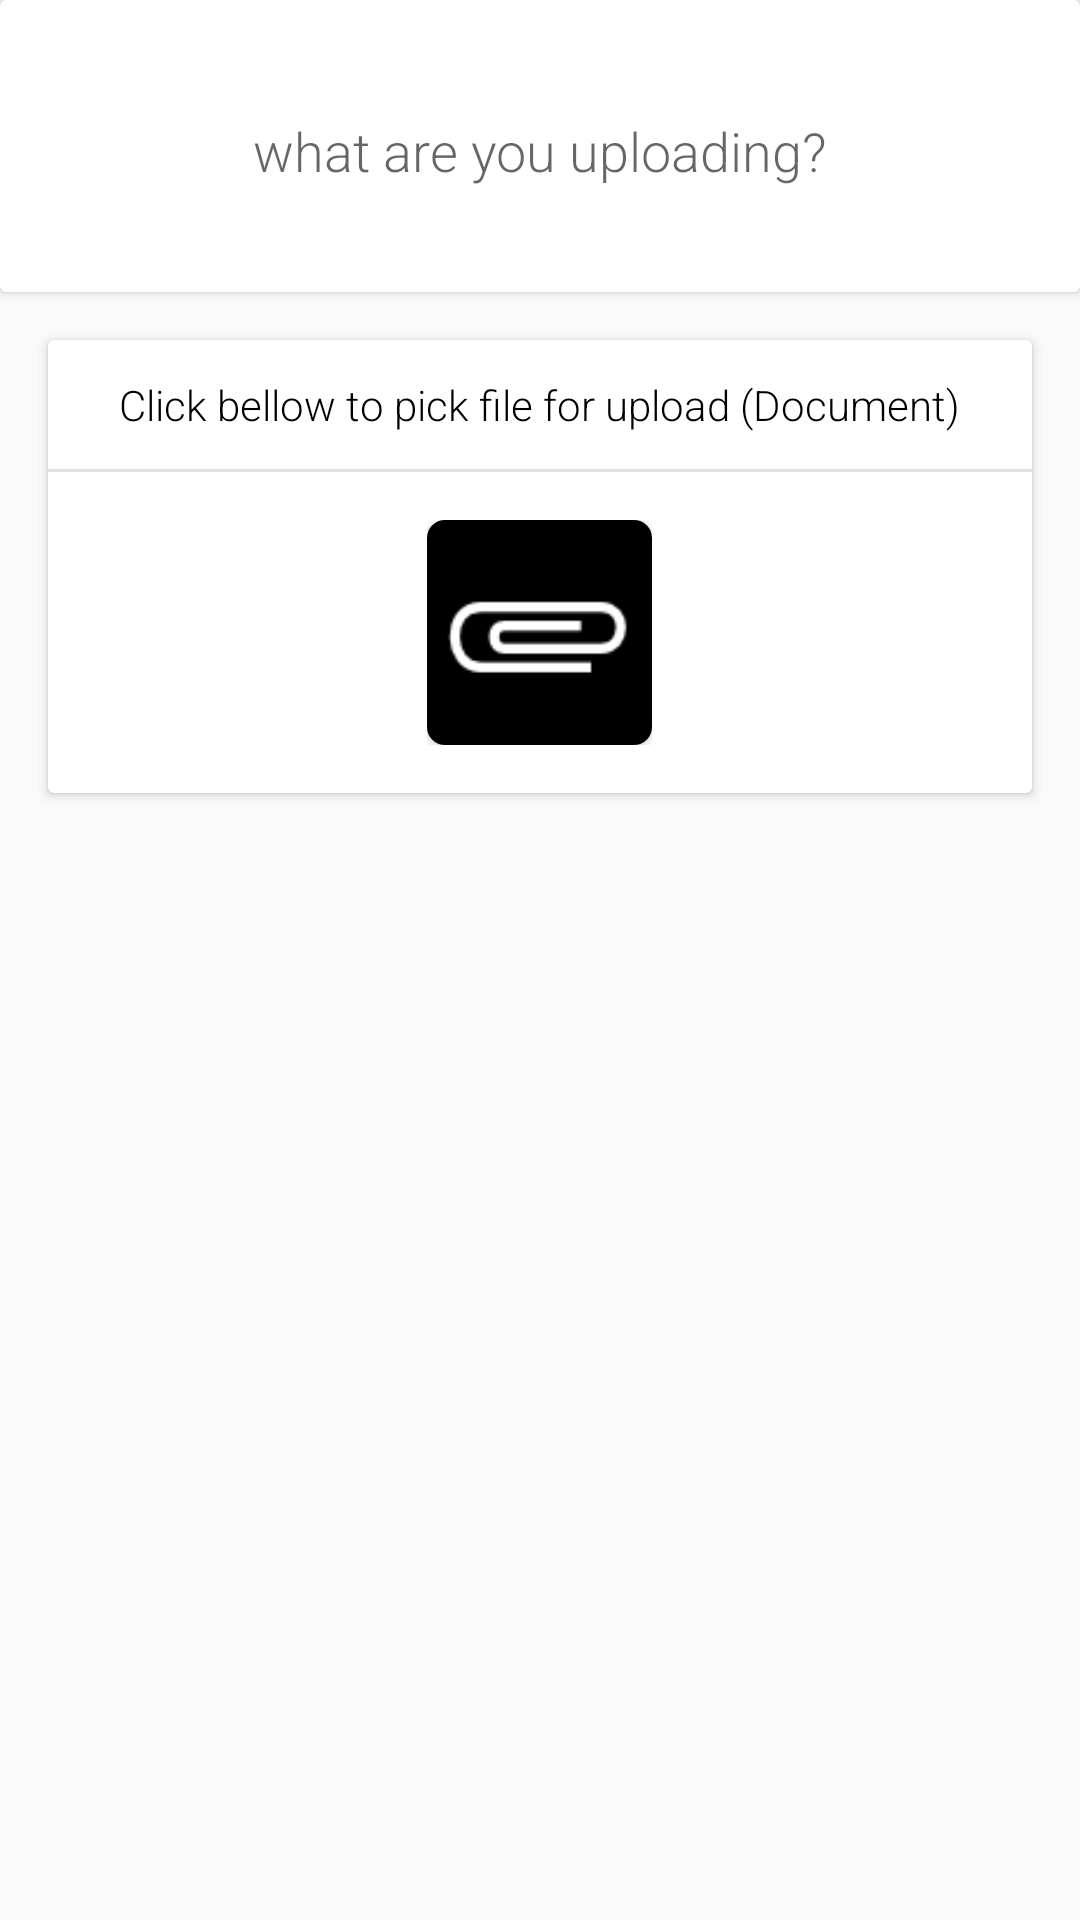

Screen size 1080 × 1920. Icon name, then its center in pixels as [x,y]:
attachment: [539,632]
